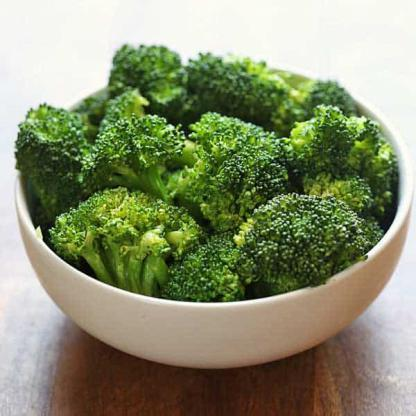broccoli: (14, 42, 400, 306)
